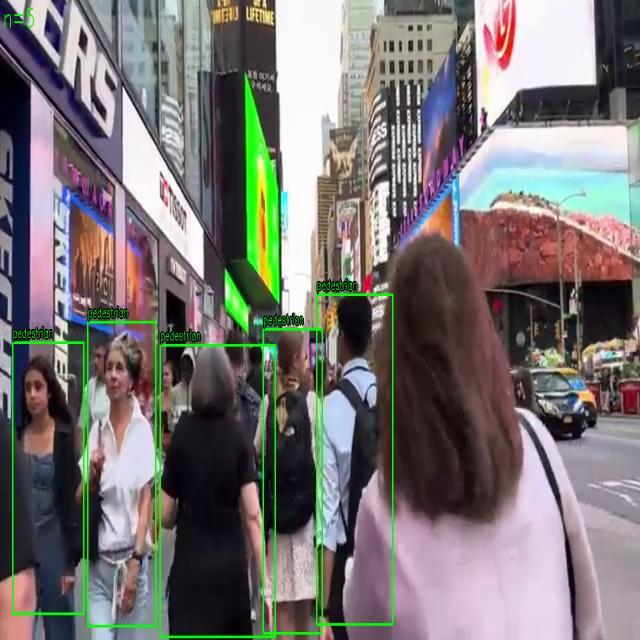with scooter: (160, 344, 276, 638), (316, 294, 394, 624), (88, 322, 156, 626), (12, 342, 84, 614), (263, 329, 323, 634)
